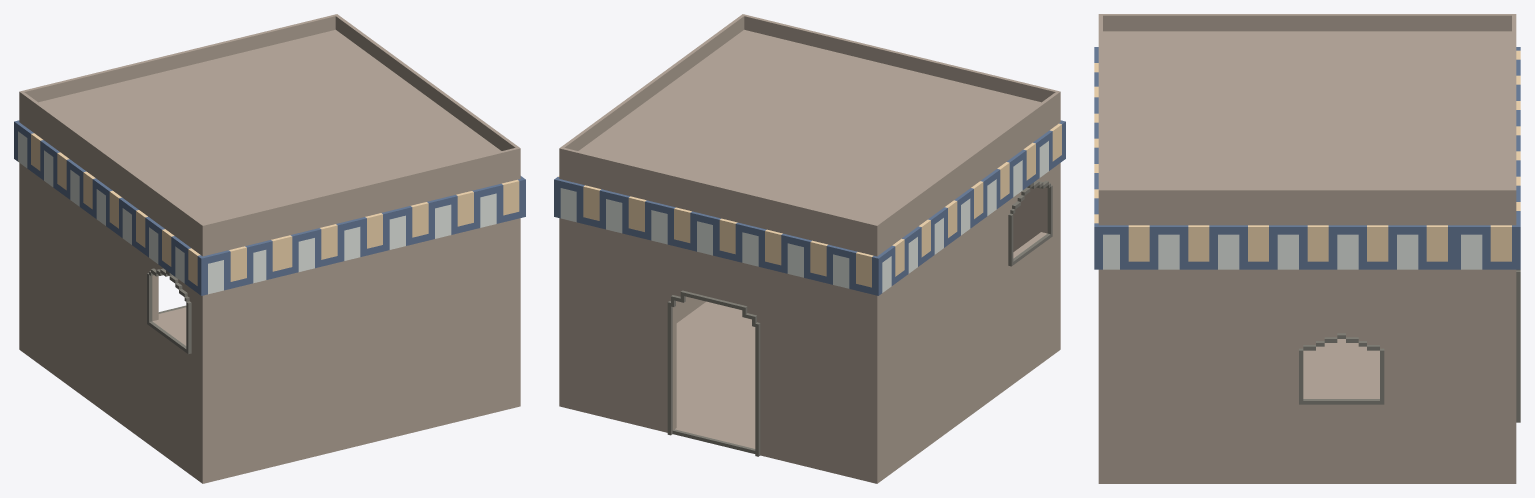
File: GameJam-House2.obj
3 views of the same model, side by side, from view 1: azimuth 30°, elevation 25°; view 2: azimuth 150°, elevation 25°; view 3: azimuth 270°, elevation 25° (orthographic). The views are drawn at different scales.
Bounding box in the file's own units: 10 × 7.6 × 10.
Materials: 1 (1 with a texture image).
